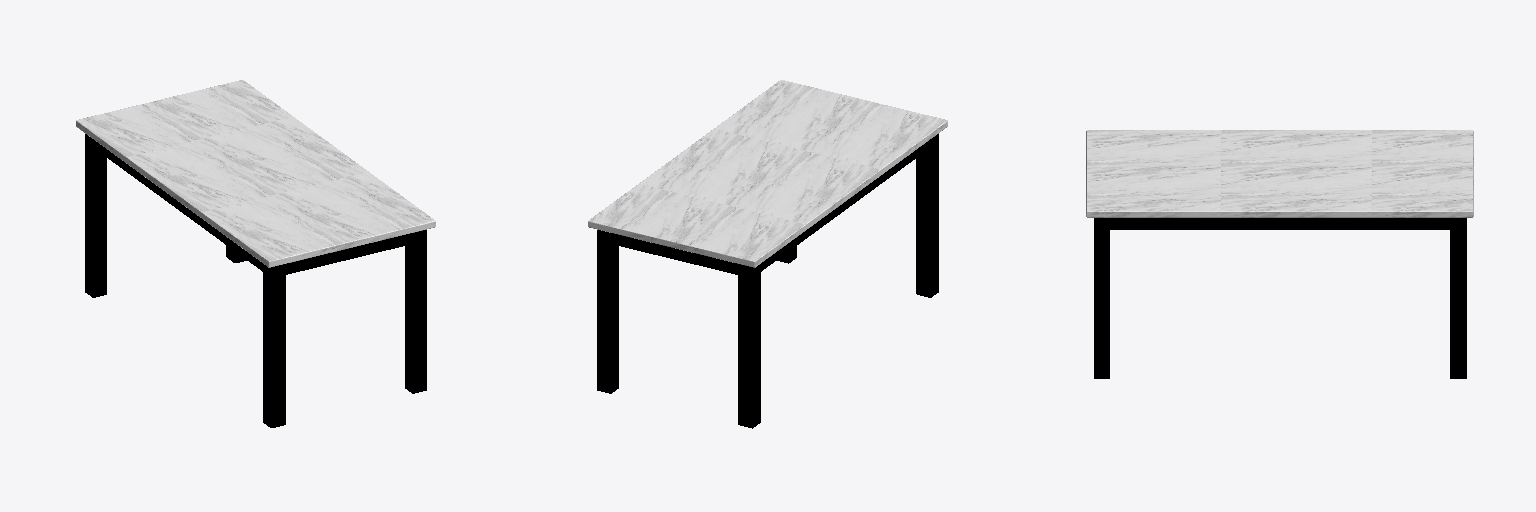
The picture shows the model from 3 angles: view 1: azimuth 30°, elevation 25°; view 2: azimuth 150°, elevation 25°; view 3: azimuth 270°, elevation 25°; orthographic projection.
Visible parts, largest first — view 1: polySurface174; view 2: polySurface174; view 3: polySurface174.
Boxes of the visible parts, box(x1,y1,x2,y2) form: polySurface174: box(76, 80, 435, 427); polySurface174: box(588, 80, 947, 428); polySurface174: box(1086, 130, 1473, 378).
Bounding box in the file's own units: 80 × 78.02 × 160.
Materials: 2 (1 with a texture image).